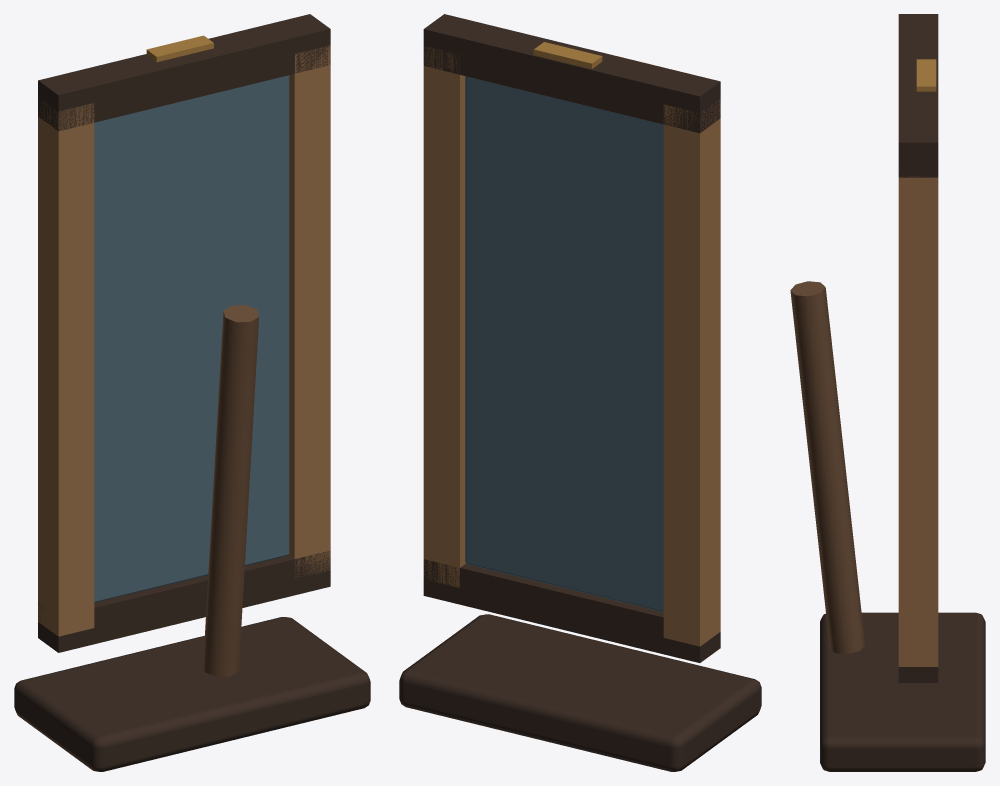
Rendered from standing_mirror.glb.
3 renders of one model, left to right at view 1: azimuth 30°, elevation 25°; view 2: azimuth 150°, elevation 25°; view 3: azimuth 270°, elevation 25°, orthographic. The views are drawn at different scales.
Parts seen in each view (by area): view 1: standing_mirror; view 2: standing_mirror; view 3: standing_mirror.
Part boxes in pixels (x1,y1,x2,y2): standing_mirror: (14, 14, 370, 771); standing_mirror: (399, 14, 761, 771); standing_mirror: (790, 14, 985, 771).
Size of the model in its own units: 0.8 by 1.8 by 0.5.
1 material, 1 textured.
